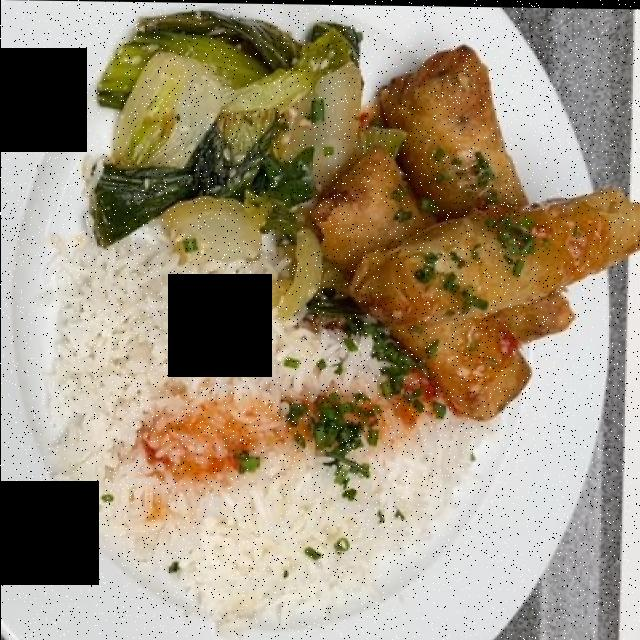chinese-cabbage: (59, 29, 378, 312)
rice: (49, 229, 493, 603)
sauce-sweet-sour: (134, 311, 520, 466)
spring-roll-fried: (318, 42, 638, 435)
